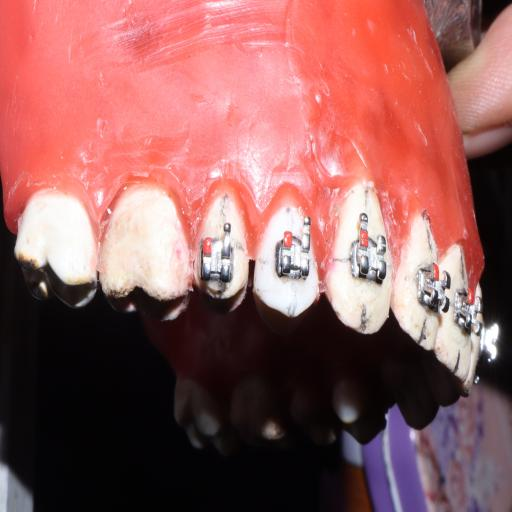correct_brace: (254, 182, 325, 321)
incorrect_brace: (267, 213, 314, 284)
